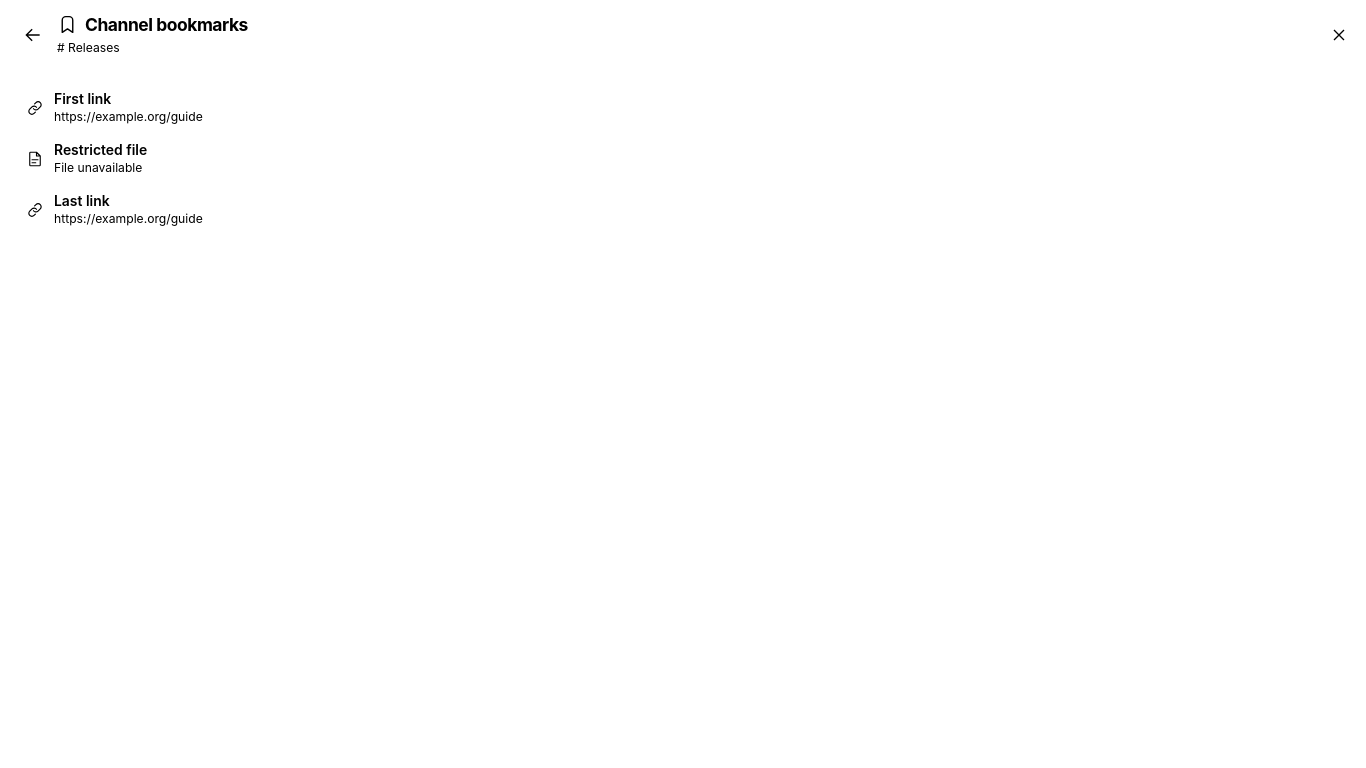
Test: after deleting a bookmark, focus advances past rows without any available action
Click the button "First link https://example.org/guide".
click(83, 99)  # box x1=16 y1=82 x2=1350 y2=133
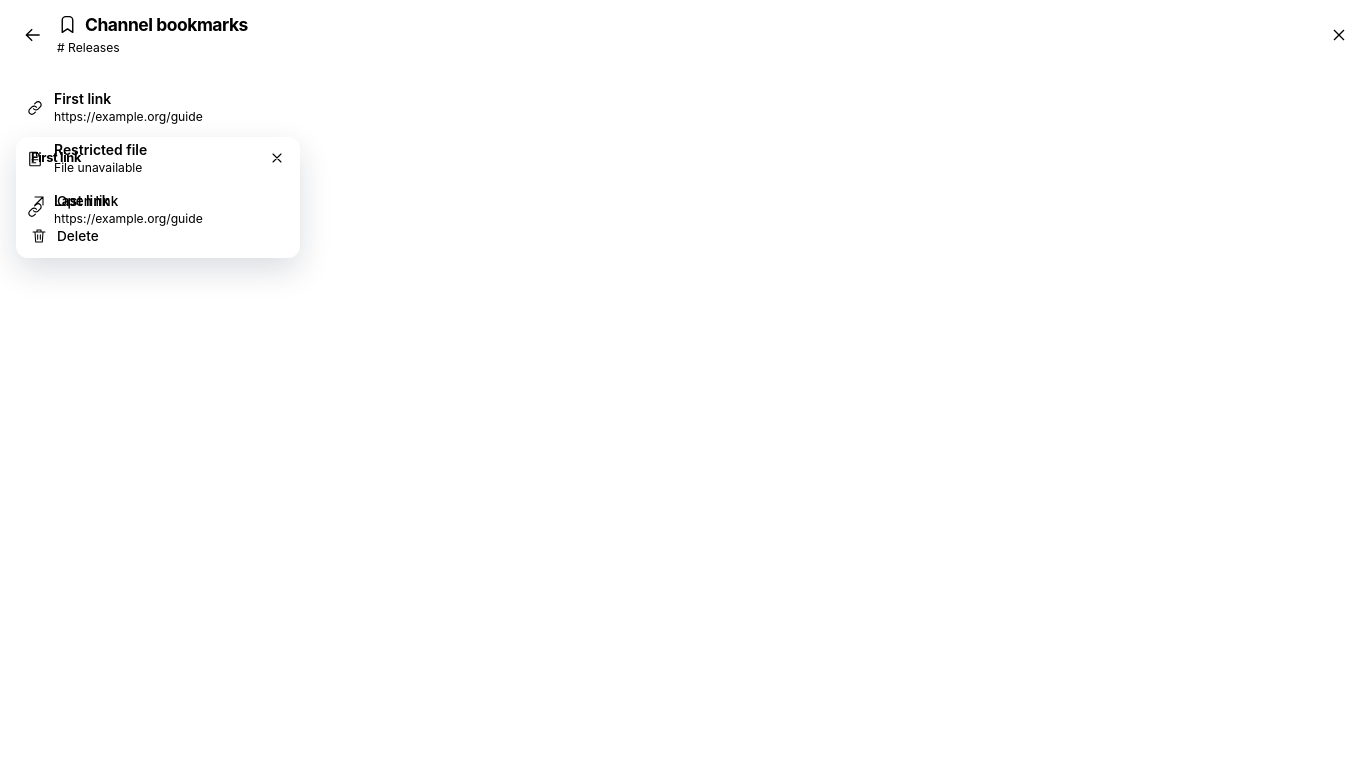
Click the button "Delete".
click(78, 236)  # box x1=21 y1=218 x2=295 y2=253
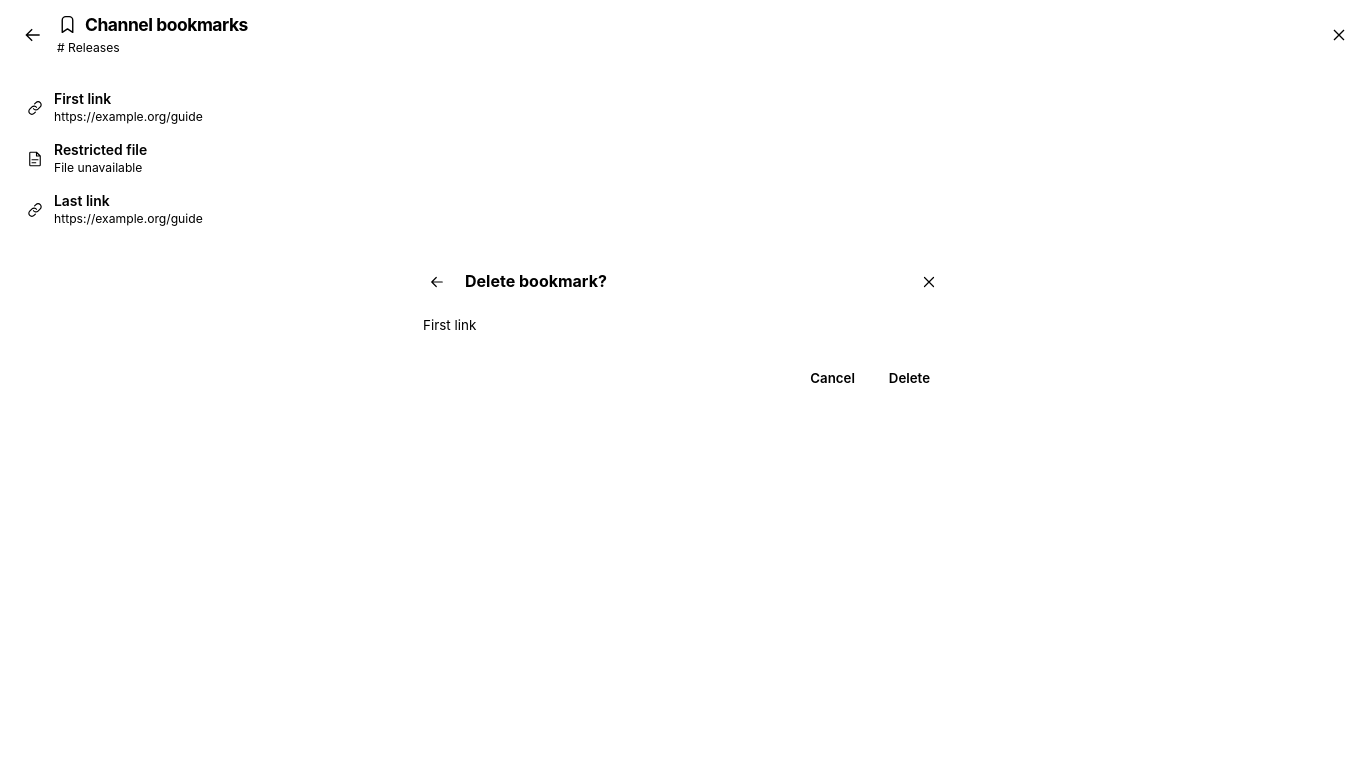
Click the button "Delete".
click(909, 378)  # box x1=876 y1=362 x2=943 y2=394
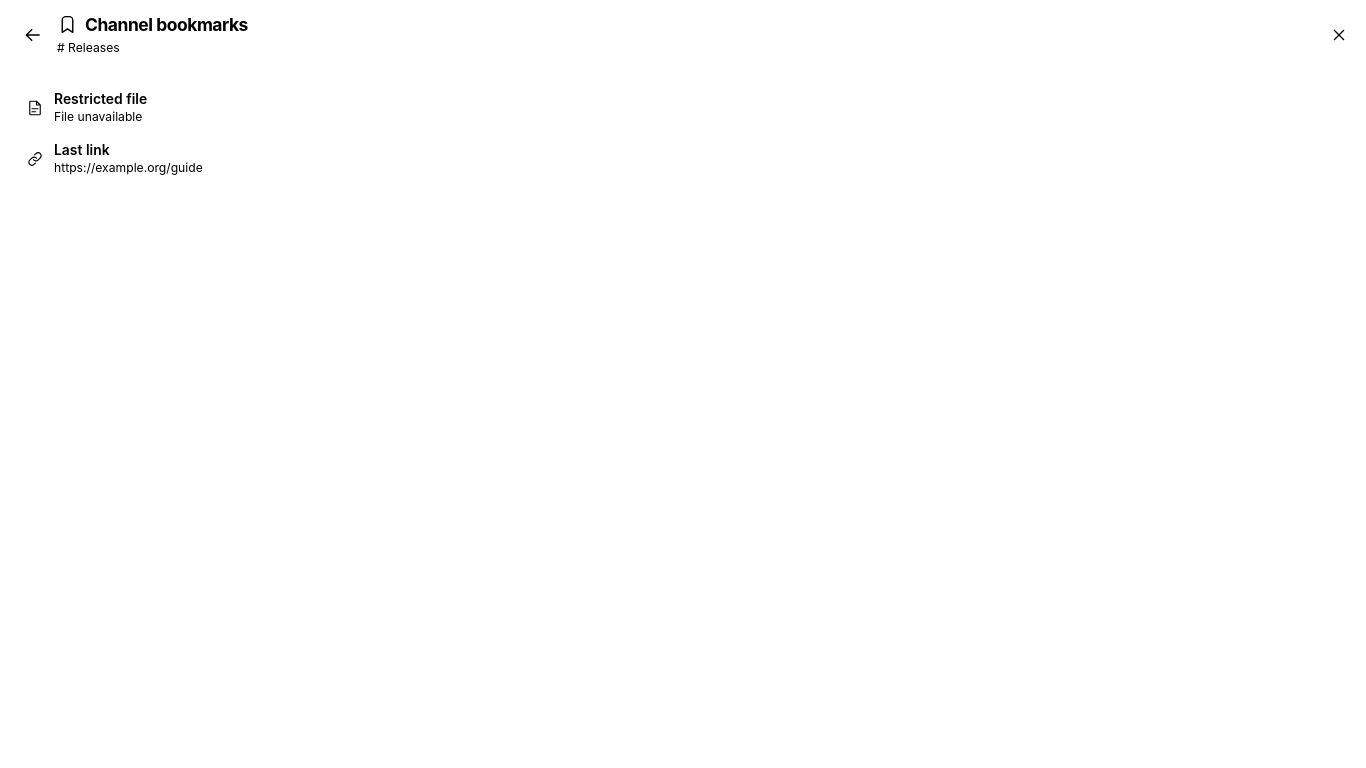
Result: the button "First link" is gone
